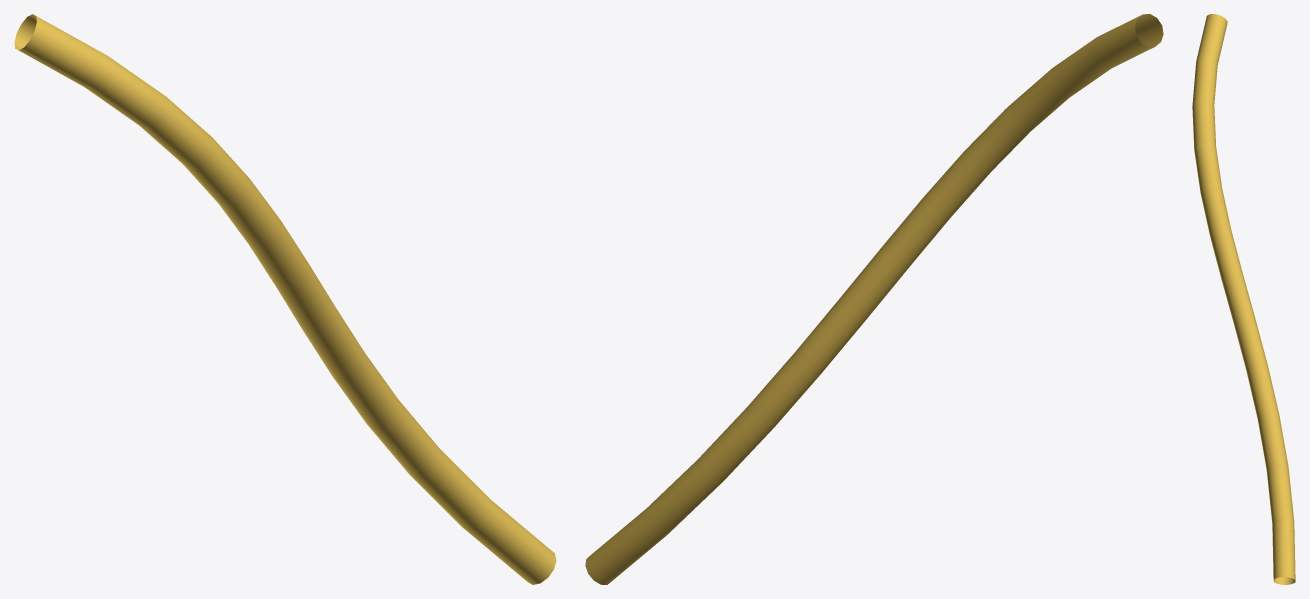
Rendered from Posterior_division_middle_trunk_brachial_plexus_left.glb.
The picture shows the model from 3 angles, left to right: view 1: azimuth 30°, elevation 25°; view 2: azimuth 150°, elevation 25°; view 3: azimuth 270°, elevation 25°; orthographic projection. The views are drawn at different scales.
Parts seen in each view (by area): view 1: Posterior_division_of_middle_trunk_of_brachial_plexus.l_Bezi; view 2: Posterior_division_of_middle_trunk_of_brachial_plexus.l_Bezi; view 3: Posterior_division_of_middle_trunk_of_brachial_plexus.l_Bezi.
Part boxes in pixels (x1=…): Posterior_division_of_middle_trunk_of_brachial_plexus.l_Bezi: x1=14, y1=14, x2=556, y2=584; Posterior_division_of_middle_trunk_of_brachial_plexus.l_Bezi: x1=585, y1=14, x2=1163, y2=584; Posterior_division_of_middle_trunk_of_brachial_plexus.l_Bezi: x1=1192, y1=14, x2=1295, y2=584.
Bounding box in the file's own units: 0.0172 × 0.0206 × 0.0046.
